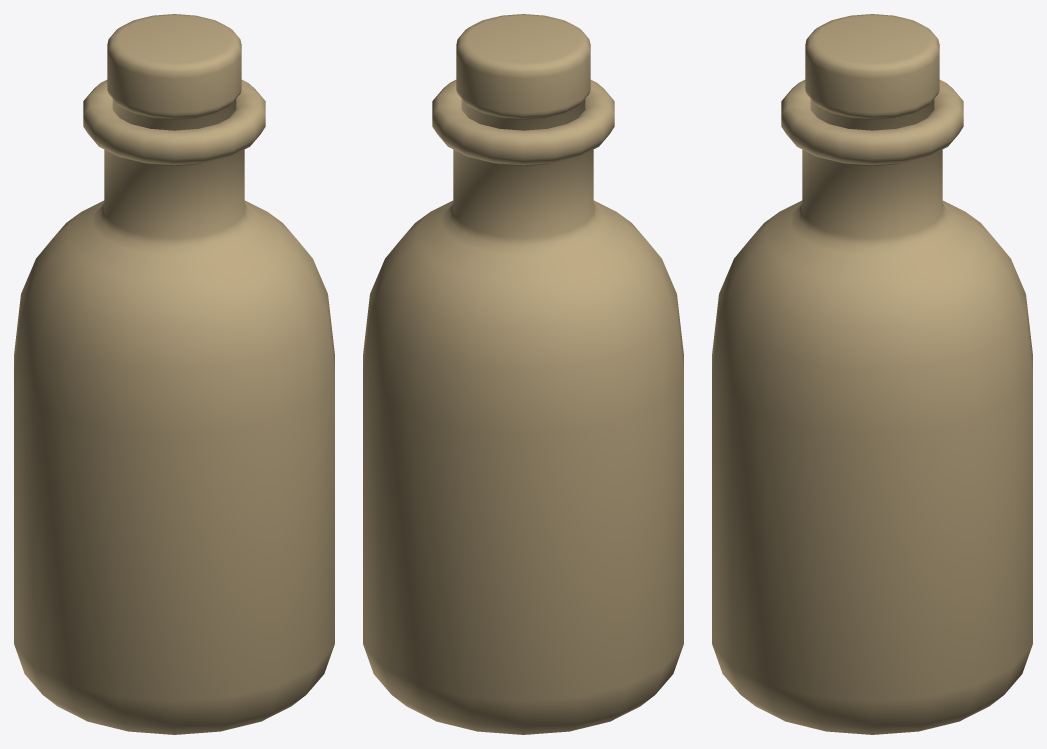
Rendered from MD_driftbottle.FBX.
The picture shows the model from 3 angles, left to right: view 1: azimuth 30°, elevation 25°; view 2: azimuth 150°, elevation 25°; view 3: azimuth 270°, elevation 25°; orthographic projection.
Parts seen in each view (by area): view 1: bottle, top; view 2: bottle, top; view 3: bottle, top.
Part boxes in pixels (<box>): bottle: <box>14,80,334,734</box>; top: <box>107,14,241,130</box>; bottle: <box>363,80,683,734</box>; top: <box>456,14,590,130</box>; bottle: <box>712,80,1032,734</box>; top: <box>805,14,939,130</box>.
Size of the model in its own units: 81.44 by 176 by 80.2.
